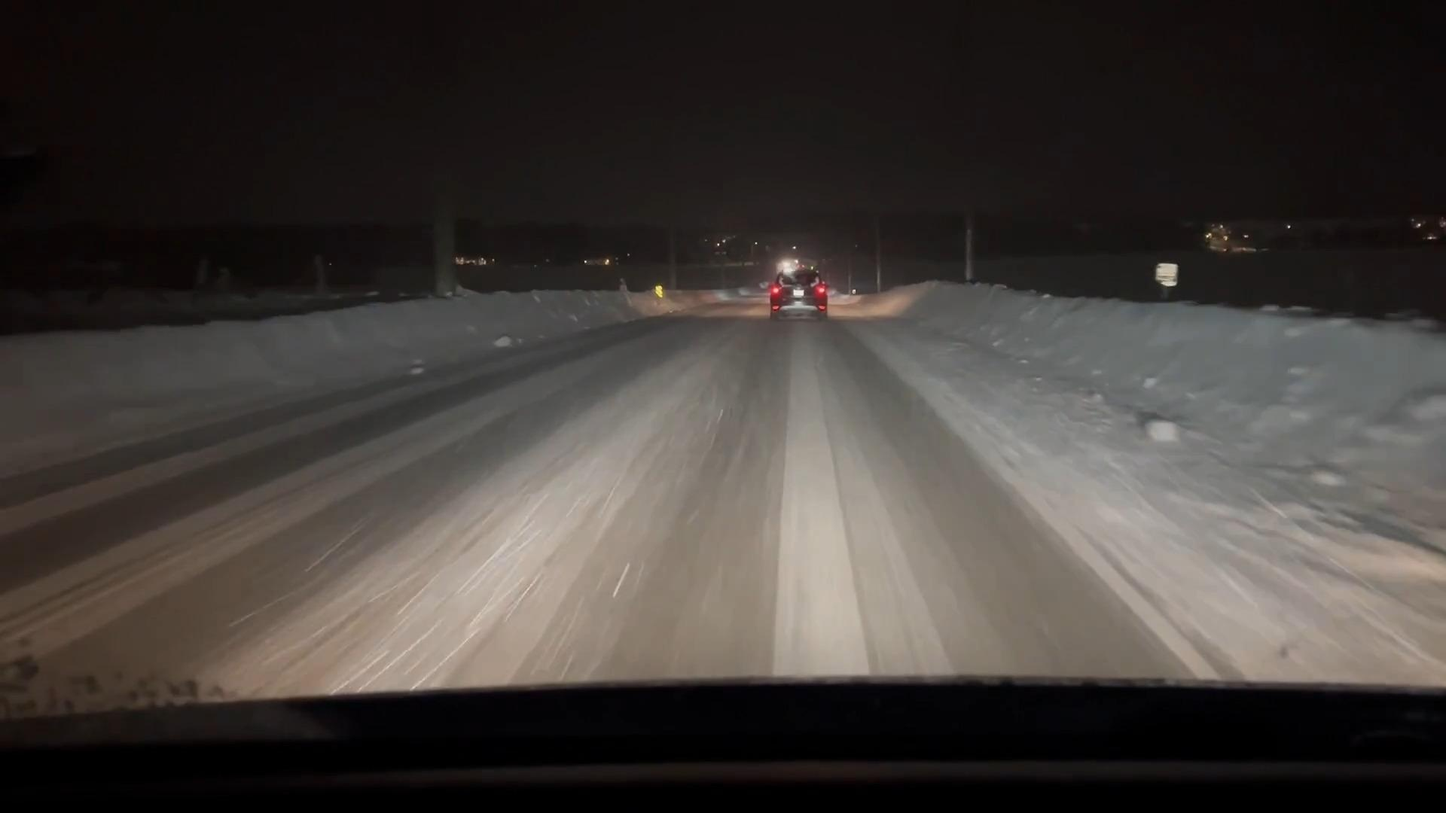Snow: (0, 285, 1445, 711)
